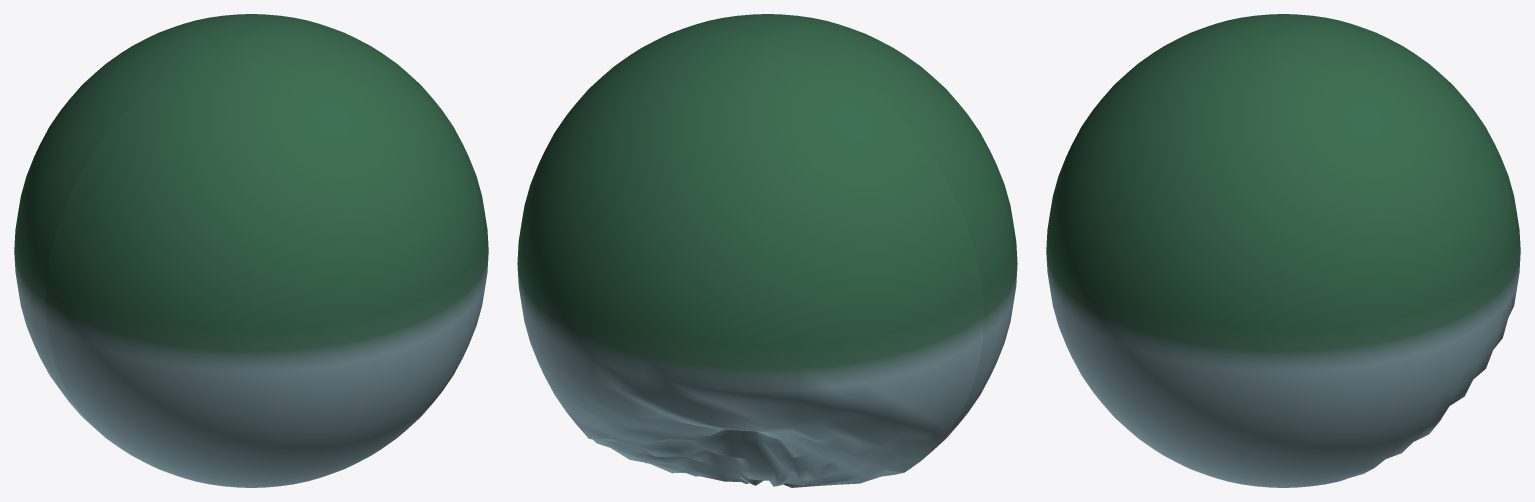
The model's file is planet.glb.
The picture shows the model from 3 angles, left to right: view 1: azimuth 30°, elevation 25°; view 2: azimuth 150°, elevation 25°; view 3: azimuth 270°, elevation 25°; orthographic projection. The views are drawn at different scales.
Parts seen in each view (by area): view 1: planet-surface; view 2: planet-surface; view 3: planet-surface.
Part boxes in pixels (x1,y1,x2,y2): planet-surface: [14, 14, 488, 487]; planet-surface: [517, 14, 1017, 487]; planet-surface: [1046, 14, 1520, 487].
Bounding box in the file's own units: 320 × 319 × 320.
